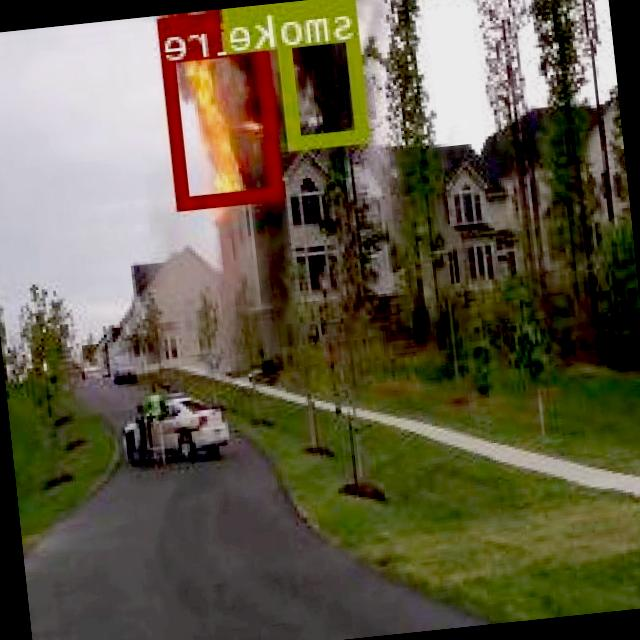fire: (161, 5, 285, 207)
smoke: (276, 0, 371, 148)
